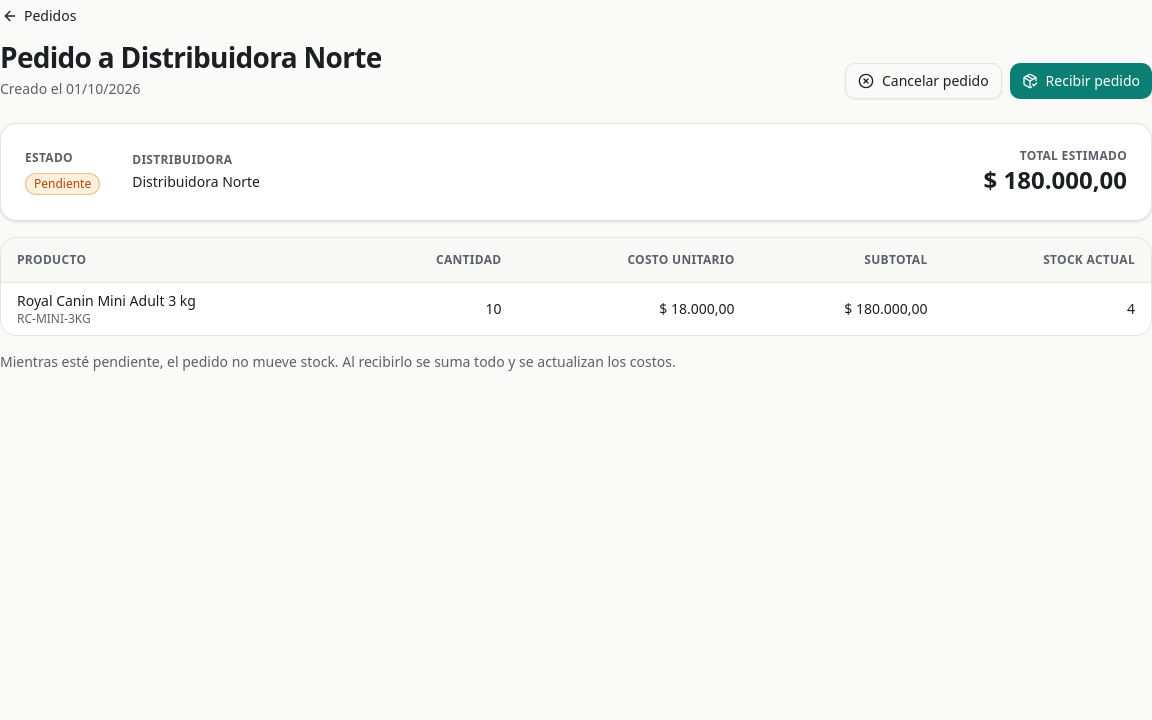
Scenario: PedidoDetallePage › la dueña cancela el pedido con confirmación
Expected: the text "Royal Canin Mini Adult 3 kg" is shown, [17,290,196,310]
Click the button "Cancelar pedido" at (923,81), box [845,63,1002,99]
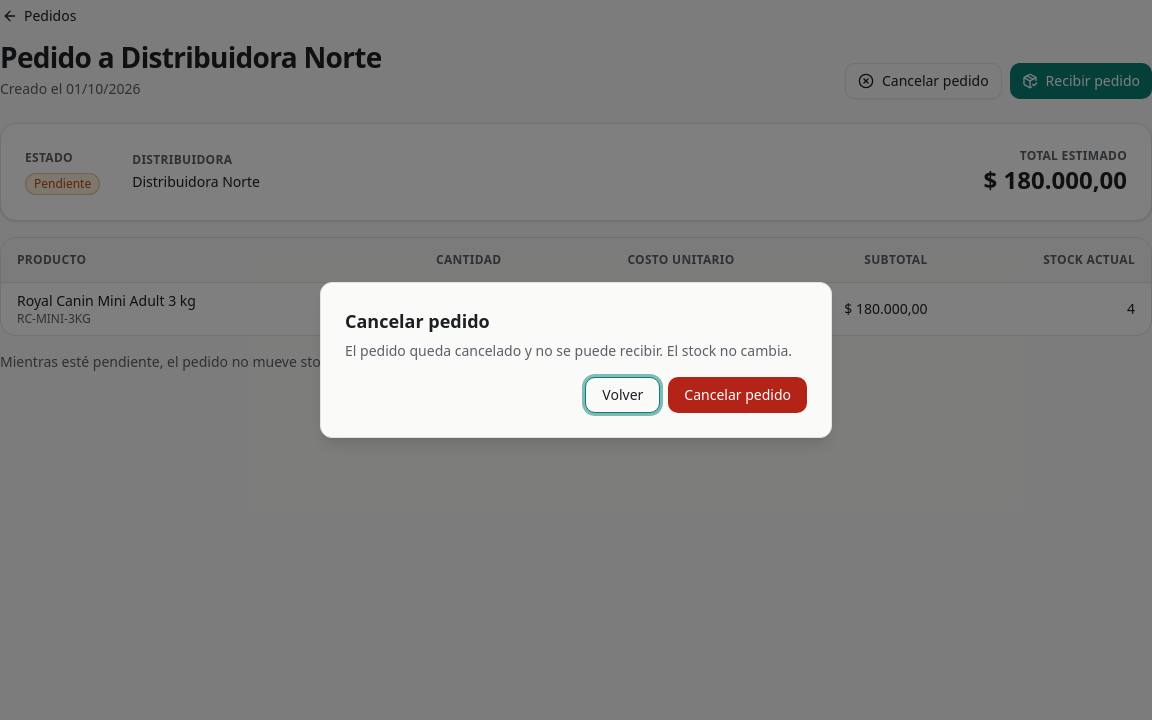
Click the button "Cancelar pedido" at (738,395), box [668,377,807,413]
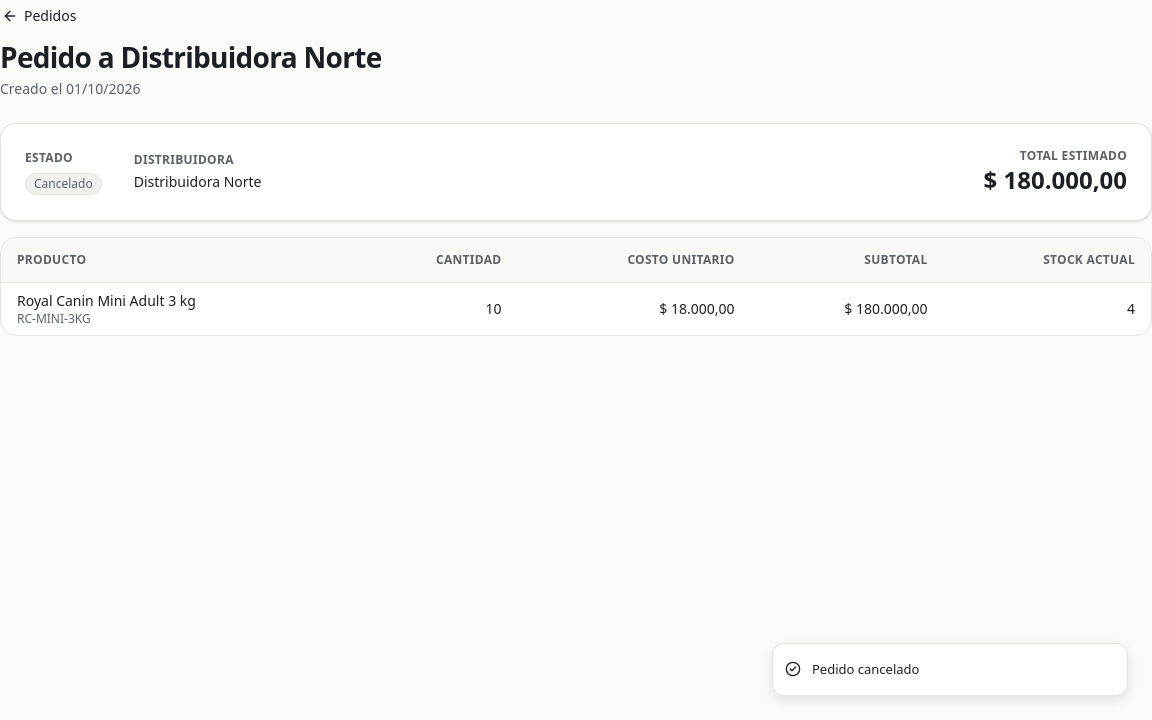
Result: the text "Pedido cancelado" is shown at [812,660,919,679]
Result: the text "Cancelado" is shown at [25,172,102,194]
